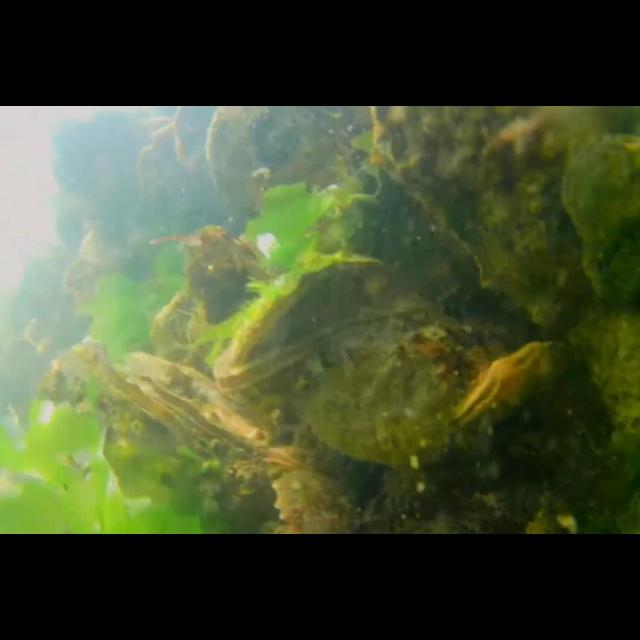Oyster-Closed: (366, 107, 596, 326), (203, 106, 369, 238), (564, 294, 640, 460), (180, 225, 272, 325)
Oyster-Open: (212, 301, 514, 477), (211, 254, 409, 378), (96, 349, 262, 465), (558, 130, 640, 308), (447, 337, 571, 433), (262, 442, 312, 476)
